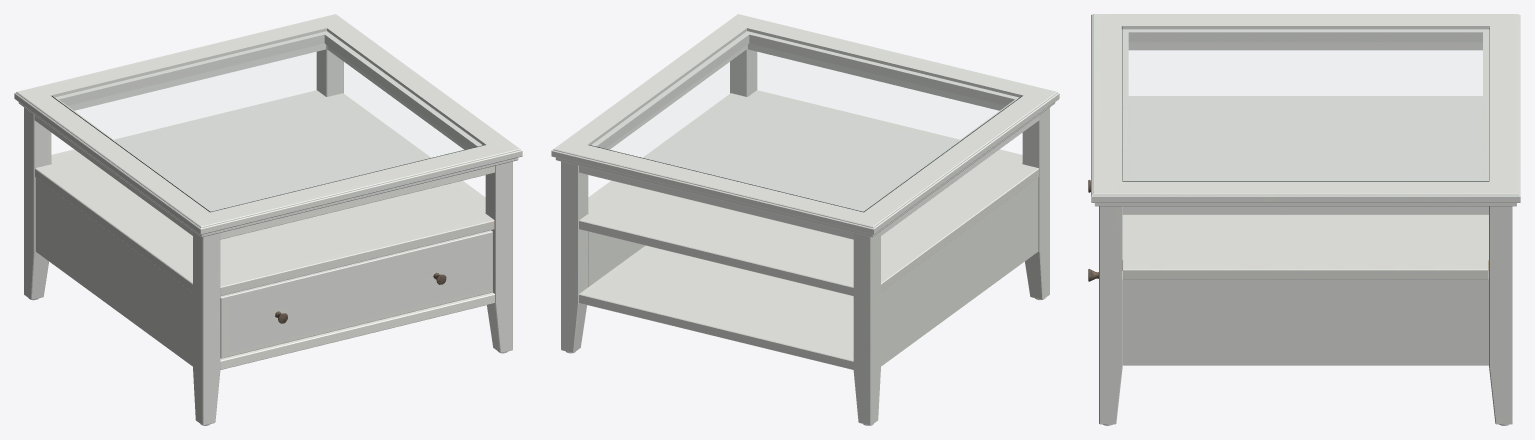
The model's file is idanas_stolik_kawowy_40500005.glb.
3 renders of one model, left to right at view 1: azimuth 30°, elevation 25°; view 2: azimuth 150°, elevation 25°; view 3: azimuth 270°, elevation 25°, orthographic. The views are drawn at different scales.
Parts seen in each view (by area): view 1: idanas_stolik_kawowy_40500005; view 2: idanas_stolik_kawowy_40500005; view 3: idanas_stolik_kawowy_40500005.
Part boxes in pixels (<box>): idanas_stolik_kawowy_40500005: <box>14,14,522,425</box>; idanas_stolik_kawowy_40500005: <box>551,14,1059,425</box>; idanas_stolik_kawowy_40500005: <box>1088,14,1520,425</box>.
Size of the model in its own units: 0.8 by 0.485 by 0.8052.
Materials: 2 (2 with a texture image).
